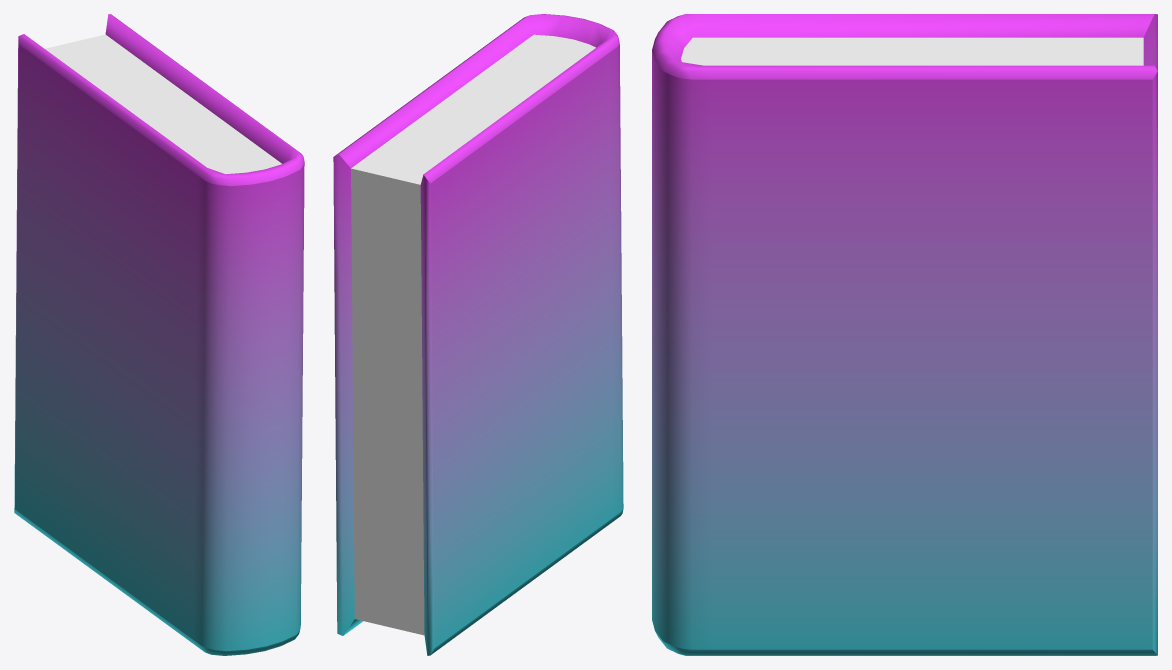
Rendered from Book_1.fbx.
3 renders of one model, left to right at view 1: azimuth 30°, elevation 25°; view 2: azimuth 150°, elevation 25°; view 3: azimuth 270°, elevation 25°, orthographic. The views are drawn at different scales.
Parts seen in each view (by area): view 1: Book_1; view 2: Book_1; view 3: Book_1.
Part boxes in pixels (x1,y1,x2,y2): Book_1: (14, 14, 304, 655); Book_1: (333, 14, 623, 655); Book_1: (652, 14, 1157, 655).
Bounding box in the file's own units: 0.103 × 0.4716 × 0.3643.
